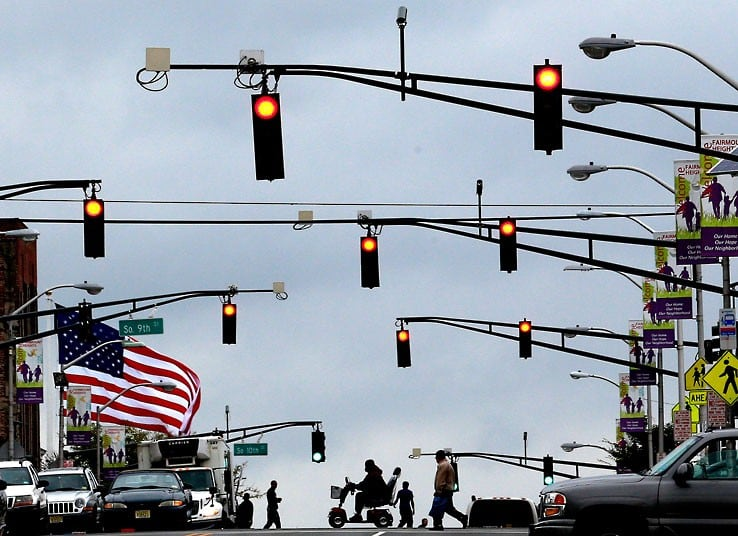go: (310, 431, 326, 463), (542, 454, 553, 486)
stop: (251, 93, 283, 179), (533, 64, 563, 152), (83, 199, 106, 258), (360, 236, 381, 289), (499, 218, 518, 273), (396, 329, 412, 369), (222, 303, 237, 345), (518, 320, 533, 359)
